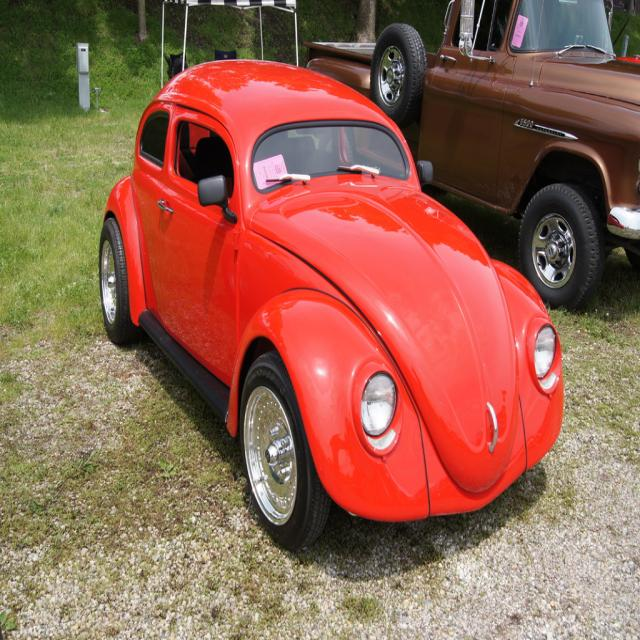car: (95, 61, 566, 526)
